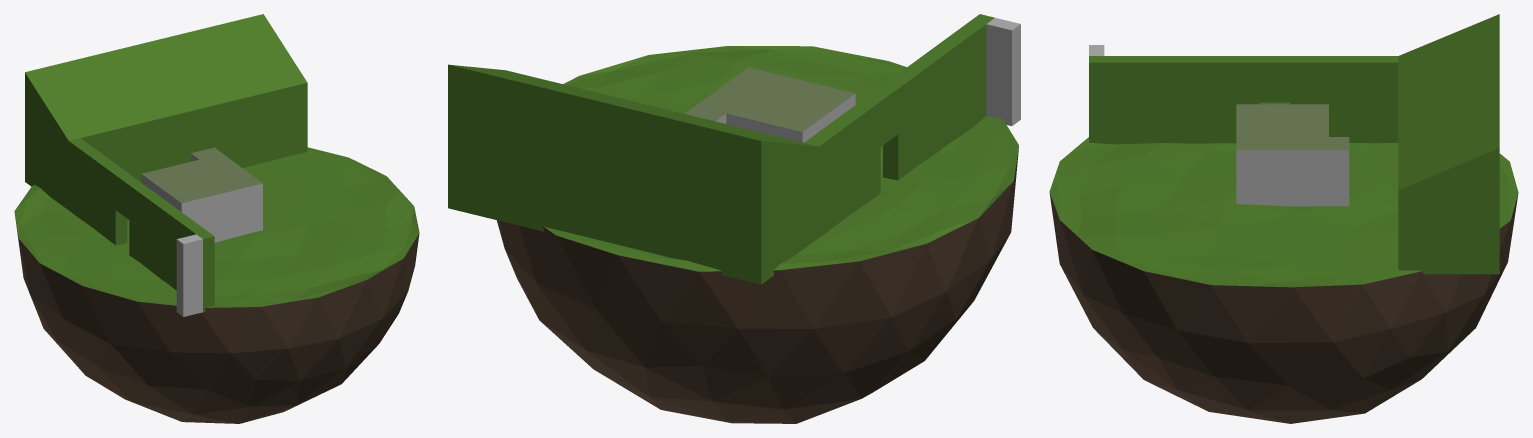
Rendered from Level1PCollider.fbx.
3 views of the same model, side by side, from view 1: azimuth 30°, elevation 25°; view 2: azimuth 150°, elevation 25°; view 3: azimuth 270°, elevation 25° (orthographic). The views are drawn at different scales.
Parts seen in each view (by area): view 1: FakeBuilding.003; view 2: FakeBuilding.003; view 3: FakeBuilding.003.
Boxes of the visible parts, x1,y1,x2,y2 form: FakeBuilding.003: [14, 14, 419, 423]; FakeBuilding.003: [448, 14, 1020, 423]; FakeBuilding.003: [1049, 14, 1518, 423].
Bounding box in the file's own units: 29.9 × 23.75 × 30.32.
